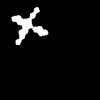single_crochet: (12, 7, 47, 44)
